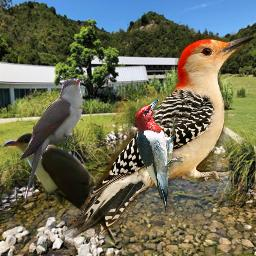Cuckoo: (1, 133, 115, 246), (19, 78, 84, 202)
Woodpecker: (61, 35, 254, 242), (134, 97, 183, 213)
